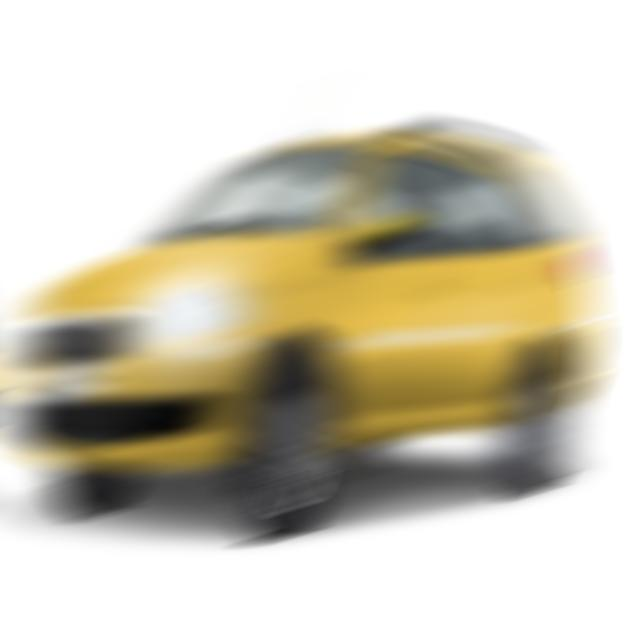Taxi: (0, 70, 587, 475)
